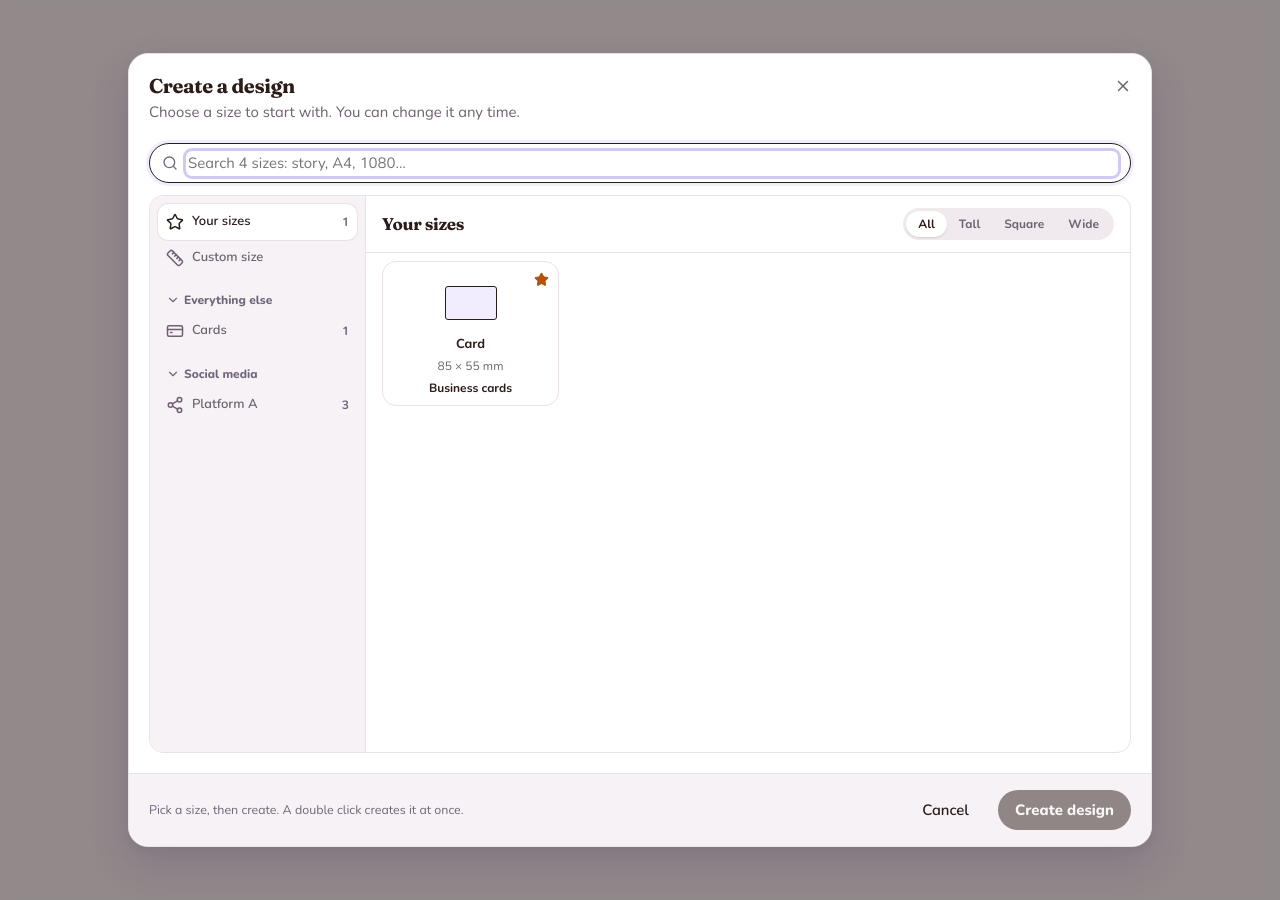
Test case: Create a design dialog › says so when your sizes are full
Click the button "Platform A 3".
click(258, 405)  # box [158,387,357,422]
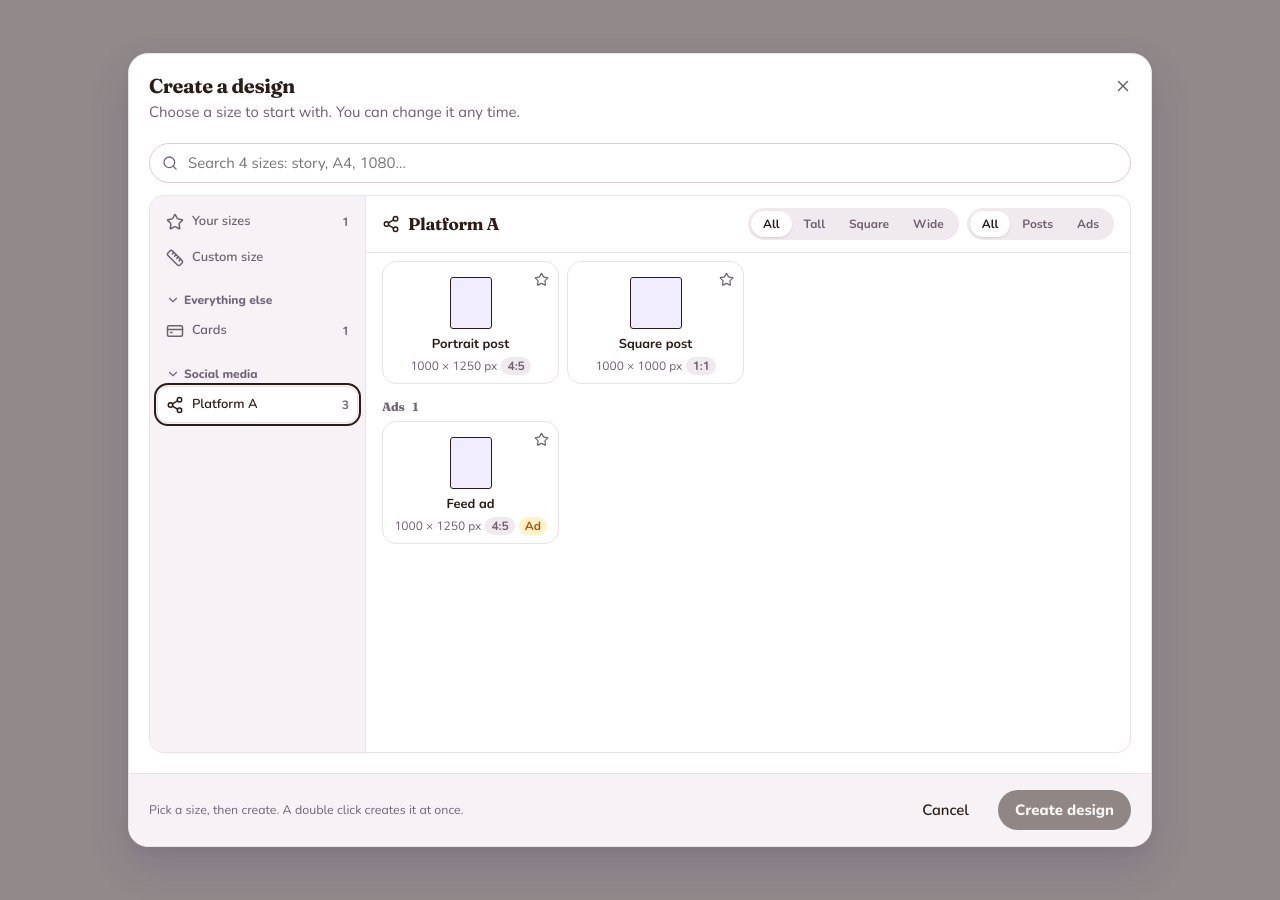
Click the 1st button named "Add to your sizes".
click(541, 279)  # box [527,265,555,293]
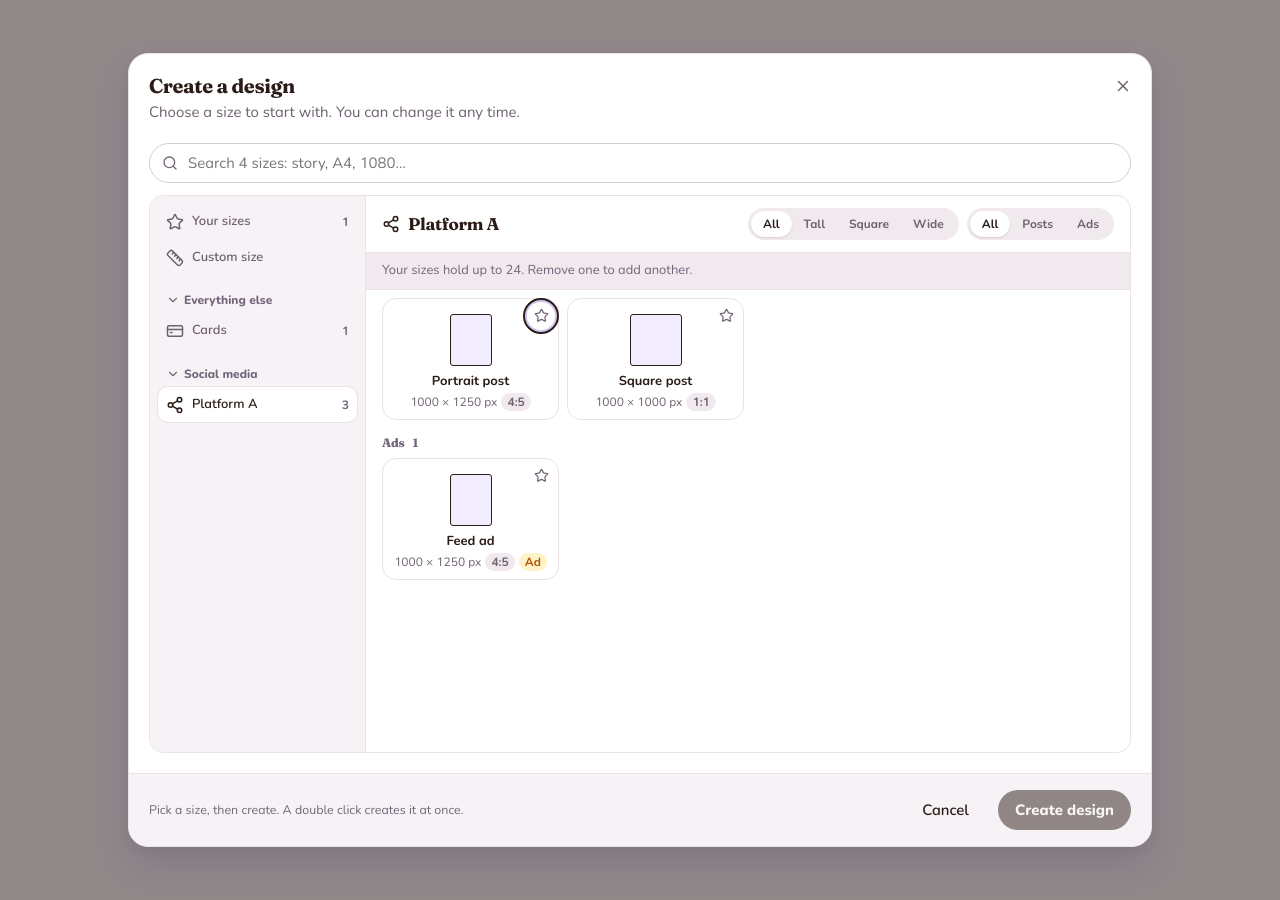
Check: the message reads "Your sizes hold up to 24. Remove one to add another.", box [366,253,1130,290]
